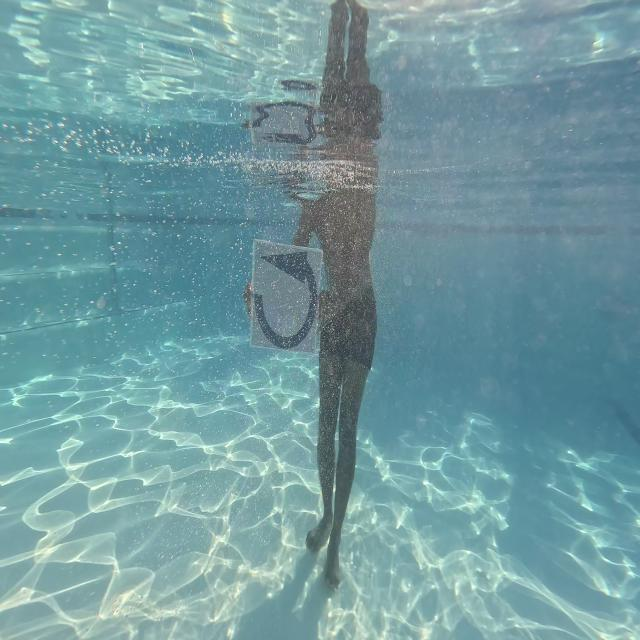blue_side: (255, 236, 317, 356)
